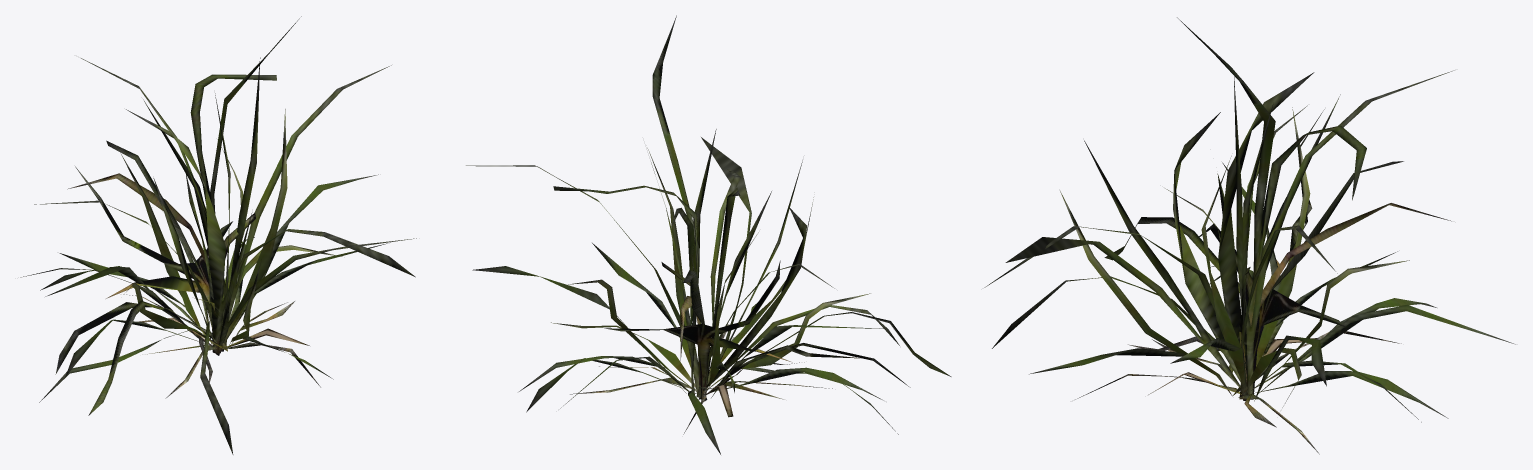
File: grass_medium_01.glb
3 views of the same model, side by side, from view 1: azimuth 30°, elevation 25°; view 2: azimuth 150°, elevation 25°; view 3: azimuth 270°, elevation 25° (orthographic). The views are drawn at different scales.
Size of the model in its own units: 0.1684 by 0.1404 by 0.1622.
1 material, 1 textured.
